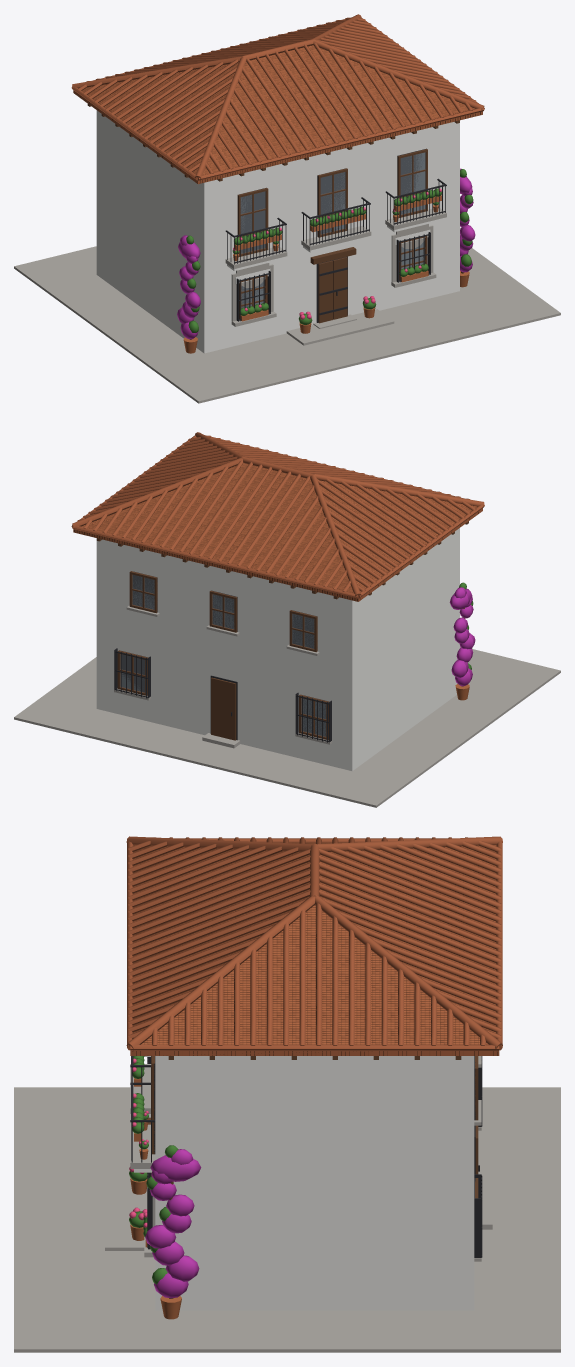
The model's file is casa_andaluza.glb.
3 renders of one model, top to bottom at view 1: azimuth 30°, elevation 25°; view 2: azimuth 150°, elevation 25°; view 3: azimuth 270°, elevation 25°, orthographic. The views are drawn at different scales.
Parts seen in each view (by area): view 1: CA_Muros, CA_Suelo, CA_Lomo_Cumbrera, CA_Cubierta, CA_Canecillo_F_0, CA_PA_0_Balcon_Pasamanos_F, CA_PA_0_Hueco, CA_PA_0_Cristal, CA_PA_0_Balcon_Jard_Mata_0, CA_Buganvilla_-1_Flor_0, CA_PA_0_Balcon_Jard_Jardinera; view 2: CA_Muros, CA_Lomo_Cumbrera, CA_Suelo, CA_Cubierta, CA_Canecillo_F_0, CA_PA_0_Hueco, CA_PA_0_Cristal, CA_Buganvilla_-1_Flor_0, CA_PA_0_Balcon_Pasamanos_F; view 3: CA_Muros, CA_Suelo, CA_Lomo_Cumbrera, CA_Cubierta, CA_Buganvilla_-1_Flor_0, CA_PA_0_Balcon_Pasamanos_F, CA_PA_0_Balcon_Jard_Mata_0, CA_Canecillo_F_0, CA_PA_0_Balcon_Jard_Jardinera.
Boxes of the visible parts, x1,y1,x2,y2 form: CA_Muros: (96,110,459,353); CA_Suelo: (14,208,560,403); CA_Lomo_Cumbrera: (71,14,484,180); CA_Cubierta: (73,45,482,184); CA_Canecillo_F_0: (87,104,464,339); CA_PA_0_Balcon_Pasamanos_F: (225,178,446,321); CA_PA_0_Hueco: (237,148,426,322); CA_PA_0_Cristal: (240,152,425,307); CA_PA_0_Balcon_Jard_Mata_0: (186,169,473,332); CA_Buganvilla_-1_Flor_0: (177,168,475,339); CA_PA_0_Balcon_Jard_Jardinera: (183,195,469,353); CA_Muros: (96,528,459,771); CA_Lomo_Cumbrera: (71,432,484,598); CA_Suelo: (14,605,560,807); CA_Cubierta: (73,463,482,601); CA_Canecillo_F_0: (96,521,468,740); CA_PA_0_Hueco: (119,571,327,740); CA_PA_0_Cristal: (120,575,326,736); CA_Buganvilla_-1_Flor_0: (449,587,475,686); CA_PA_0_Balcon_Pasamanos_F: (114,648,331,742); CA_Muros: (134,1056,474,1310); CA_Suelo: (14,1056,560,1352); CA_Lomo_Cumbrera: (126,836,502,1051); CA_Cubierta: (130,842,499,1055); CA_Buganvilla_-1_Flor_0: (145,1149,201,1298); CA_PA_0_Balcon_Pasamanos_F: (130,1056,482,1257); CA_PA_0_Balcon_Jard_Mata_0: (129,1056,178,1284); CA_Canecillo_F_0: (147,1056,478,1298); CA_PA_0_Balcon_Jard_Jardinera: (130,1078,181,1319).
Size of the model in its own units: 13.6 by 8.52 by 12.
12 materials, 1 textured.
